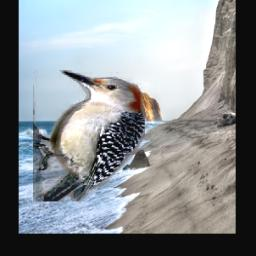Woodpecker: (33, 71, 145, 202)
